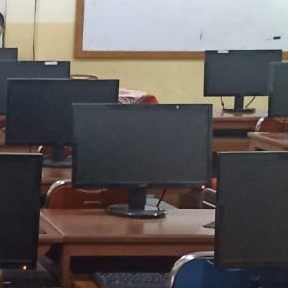monitor: (168, 151, 288, 285), (71, 103, 214, 190), (74, 1, 286, 59), (5, 78, 120, 147), (0, 153, 44, 271), (1, 60, 71, 115), (203, 50, 282, 98), (267, 62, 288, 117)
